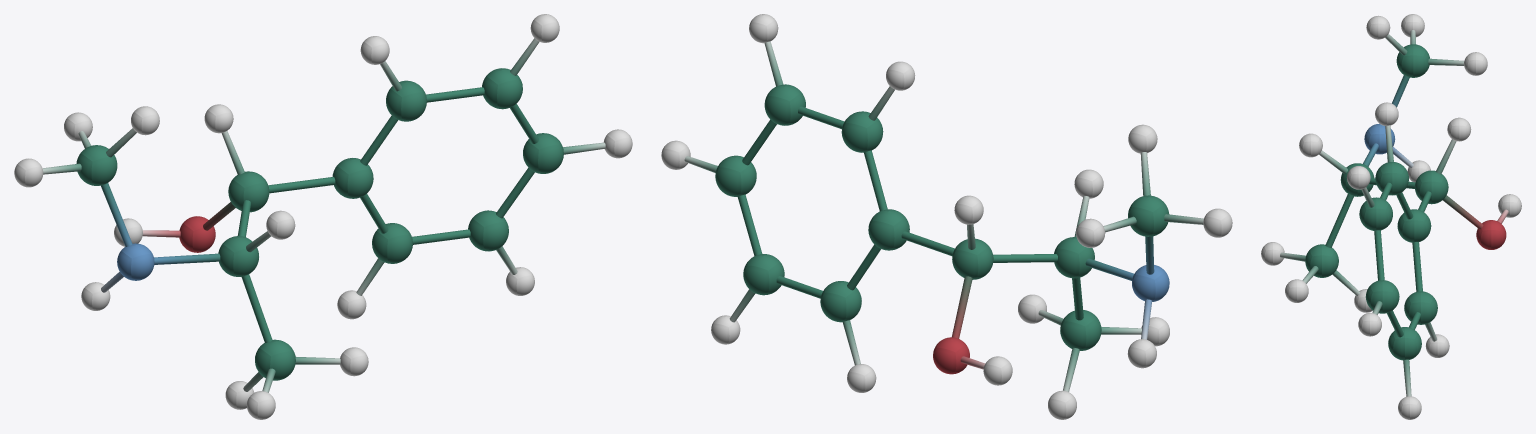
Rendered from Ephedrine.fbx.
3 views of the same model, side by side, from view 1: azimuth 30°, elevation 25°; view 2: azimuth 150°, elevation 25°; view 3: azimuth 270°, elevation 25° (orthographic). The views are drawn at different scales.
Visible parts, largest first — view 1: curMeshHyperballExportedMesh; view 2: curMeshHyperballExportedMesh; view 3: curMeshHyperballExportedMesh.
Part boxes in pixels (left/top/right/bottom): curMeshHyperballExportedMesh: left=14, top=14, right=632, bottom=419; curMeshHyperballExportedMesh: left=661, top=14, right=1232, bottom=419; curMeshHyperballExportedMesh: left=1261, top=14, right=1521, bottom=419.
Bounding box in the file's own units: 9.34 × 4.94 × 4.37.
